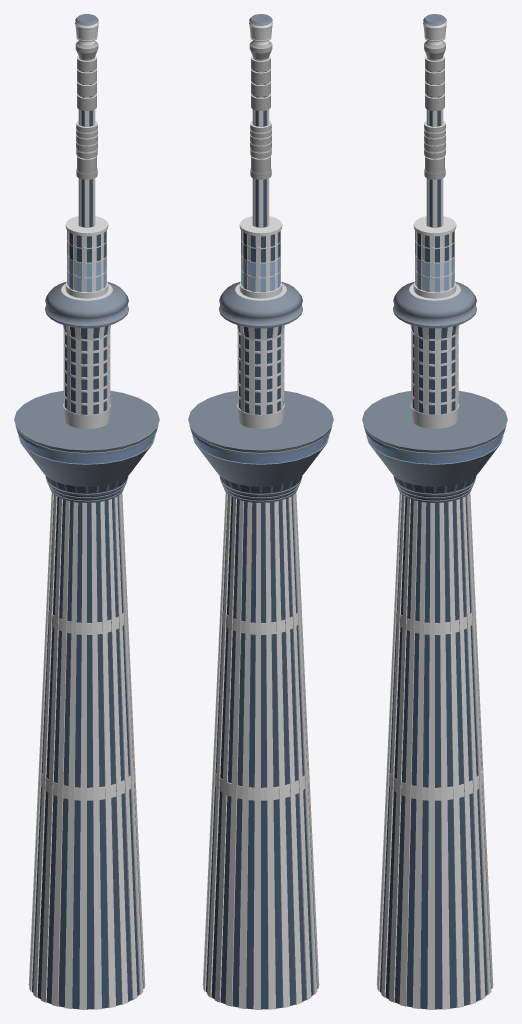
Rendered from tree.fbx.
3 views of the same model, side by side, from view 1: azimuth 30°, elevation 25°; view 2: azimuth 150°, elevation 25°; view 3: azimuth 270°, elevation 25° (orthographic).
Visible parts, largest first — view 1: pCylinder8; view 2: pCylinder8; view 3: pCylinder8.
Part boxes in pixels (x1,y1,x2,y2): pCylinder8: (14,14,159,1009); pCylinder8: (188,14,333,1009); pCylinder8: (362,14,507,1009).
Bounding box in the file's own units: 119 × 869 × 119.
